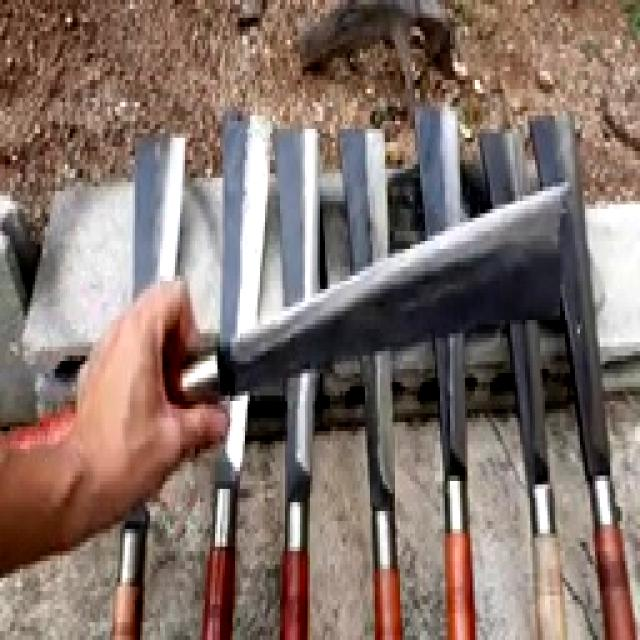eto: (526, 106, 637, 640)
